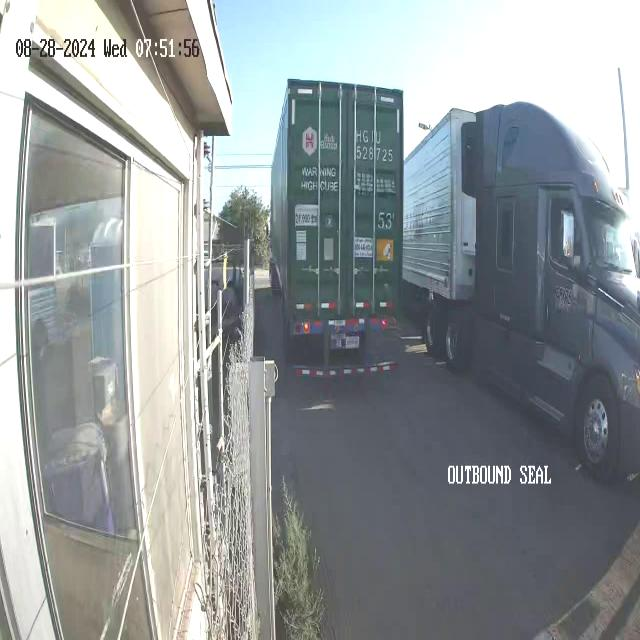CONTAINER: (270, 77, 404, 351), (406, 103, 484, 300)
